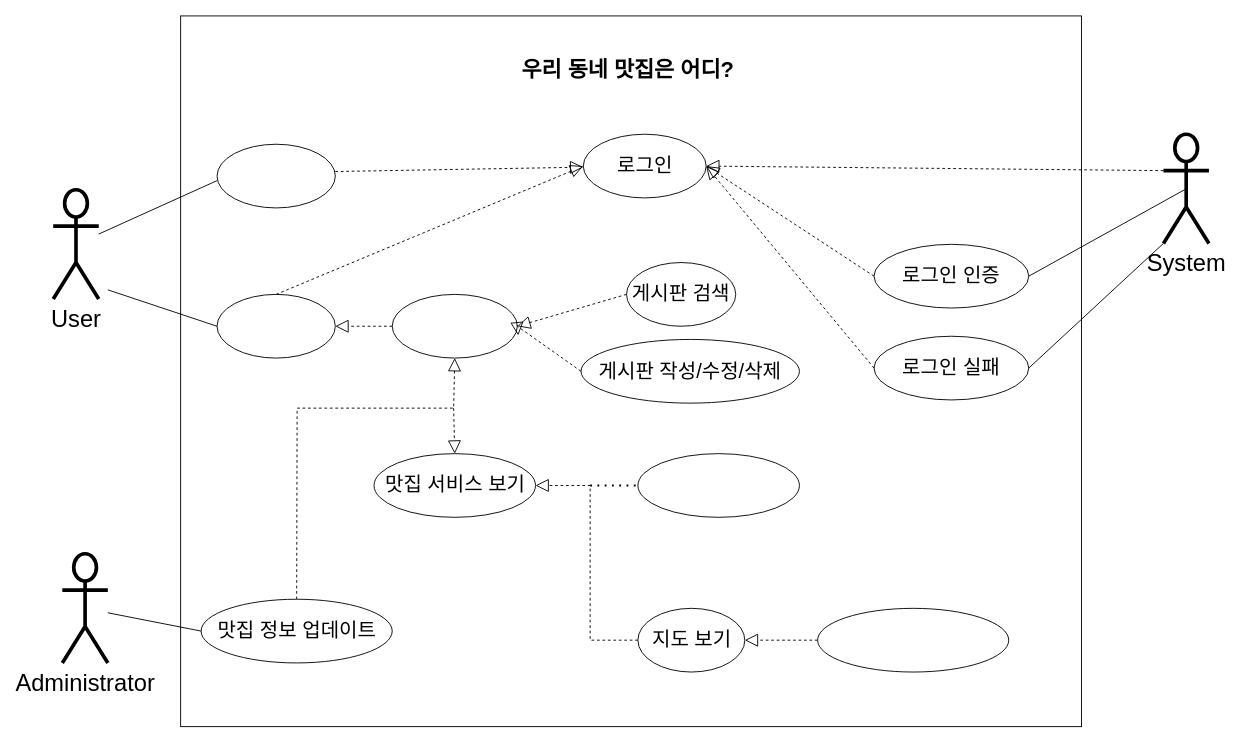
Some shapes in this 1241 by 743 pixel diagram are drawn without their labels. Each missing label, with the centre of its shape:
게시판 보기: (x=454, y=325)
메뉴: (x=275, y=325)
사용자 위치 설정: (x=718, y=485)
사진/리뷰/별점 보기: (x=913, y=639)
회원가입: (x=275, y=175)
